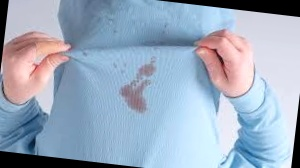blood: (119, 56, 157, 114)
